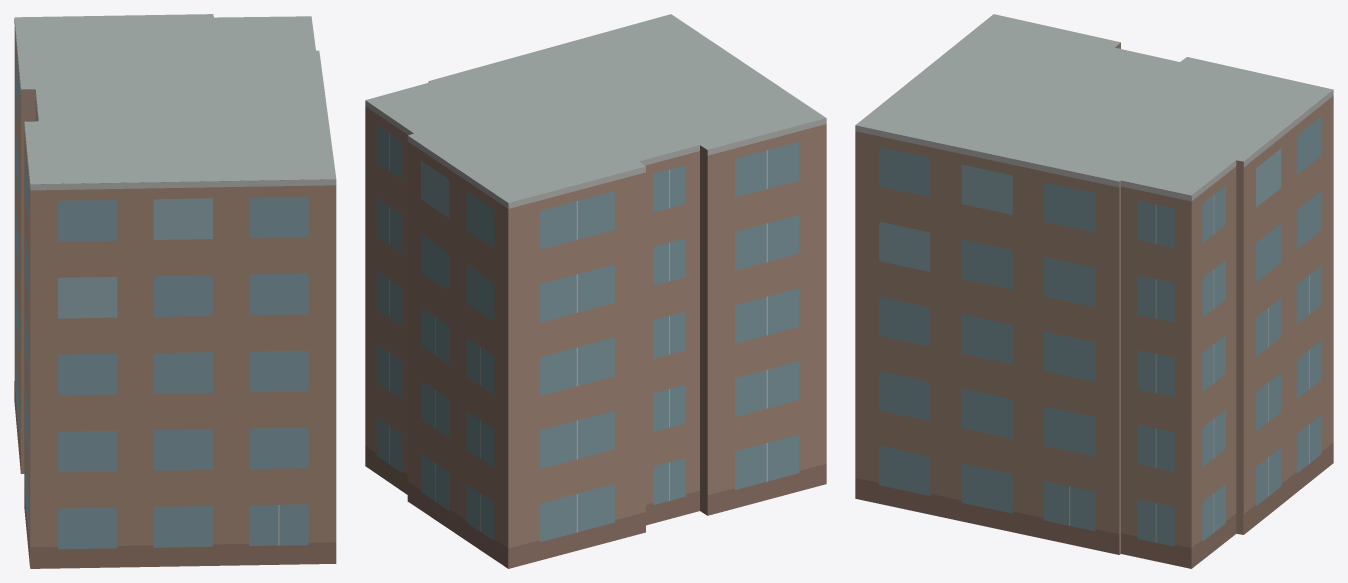
The model's file is survey-upis-32919745.glb.
The picture shows the model from 3 angles, left to right: view 1: azimuth 30°, elevation 25°; view 2: azimuth 150°, elevation 25°; view 3: azimuth 270°, elevation 25°; orthographic projection. The views are drawn at different scales.
Parts seen in each view (by area): view 1: survey-upis-32919745.tmp; view 2: survey-upis-32919745.tmp; view 3: survey-upis-32919745.tmp.
Part boxes in pixels (bbox=[...]): survey-upis-32919745.tmp: bbox=[14, 14, 336, 568]; survey-upis-32919745.tmp: bbox=[365, 14, 826, 568]; survey-upis-32919745.tmp: bbox=[855, 14, 1333, 568].
Size of the model in its own units: 16.01 by 15.35 by 17.83.
